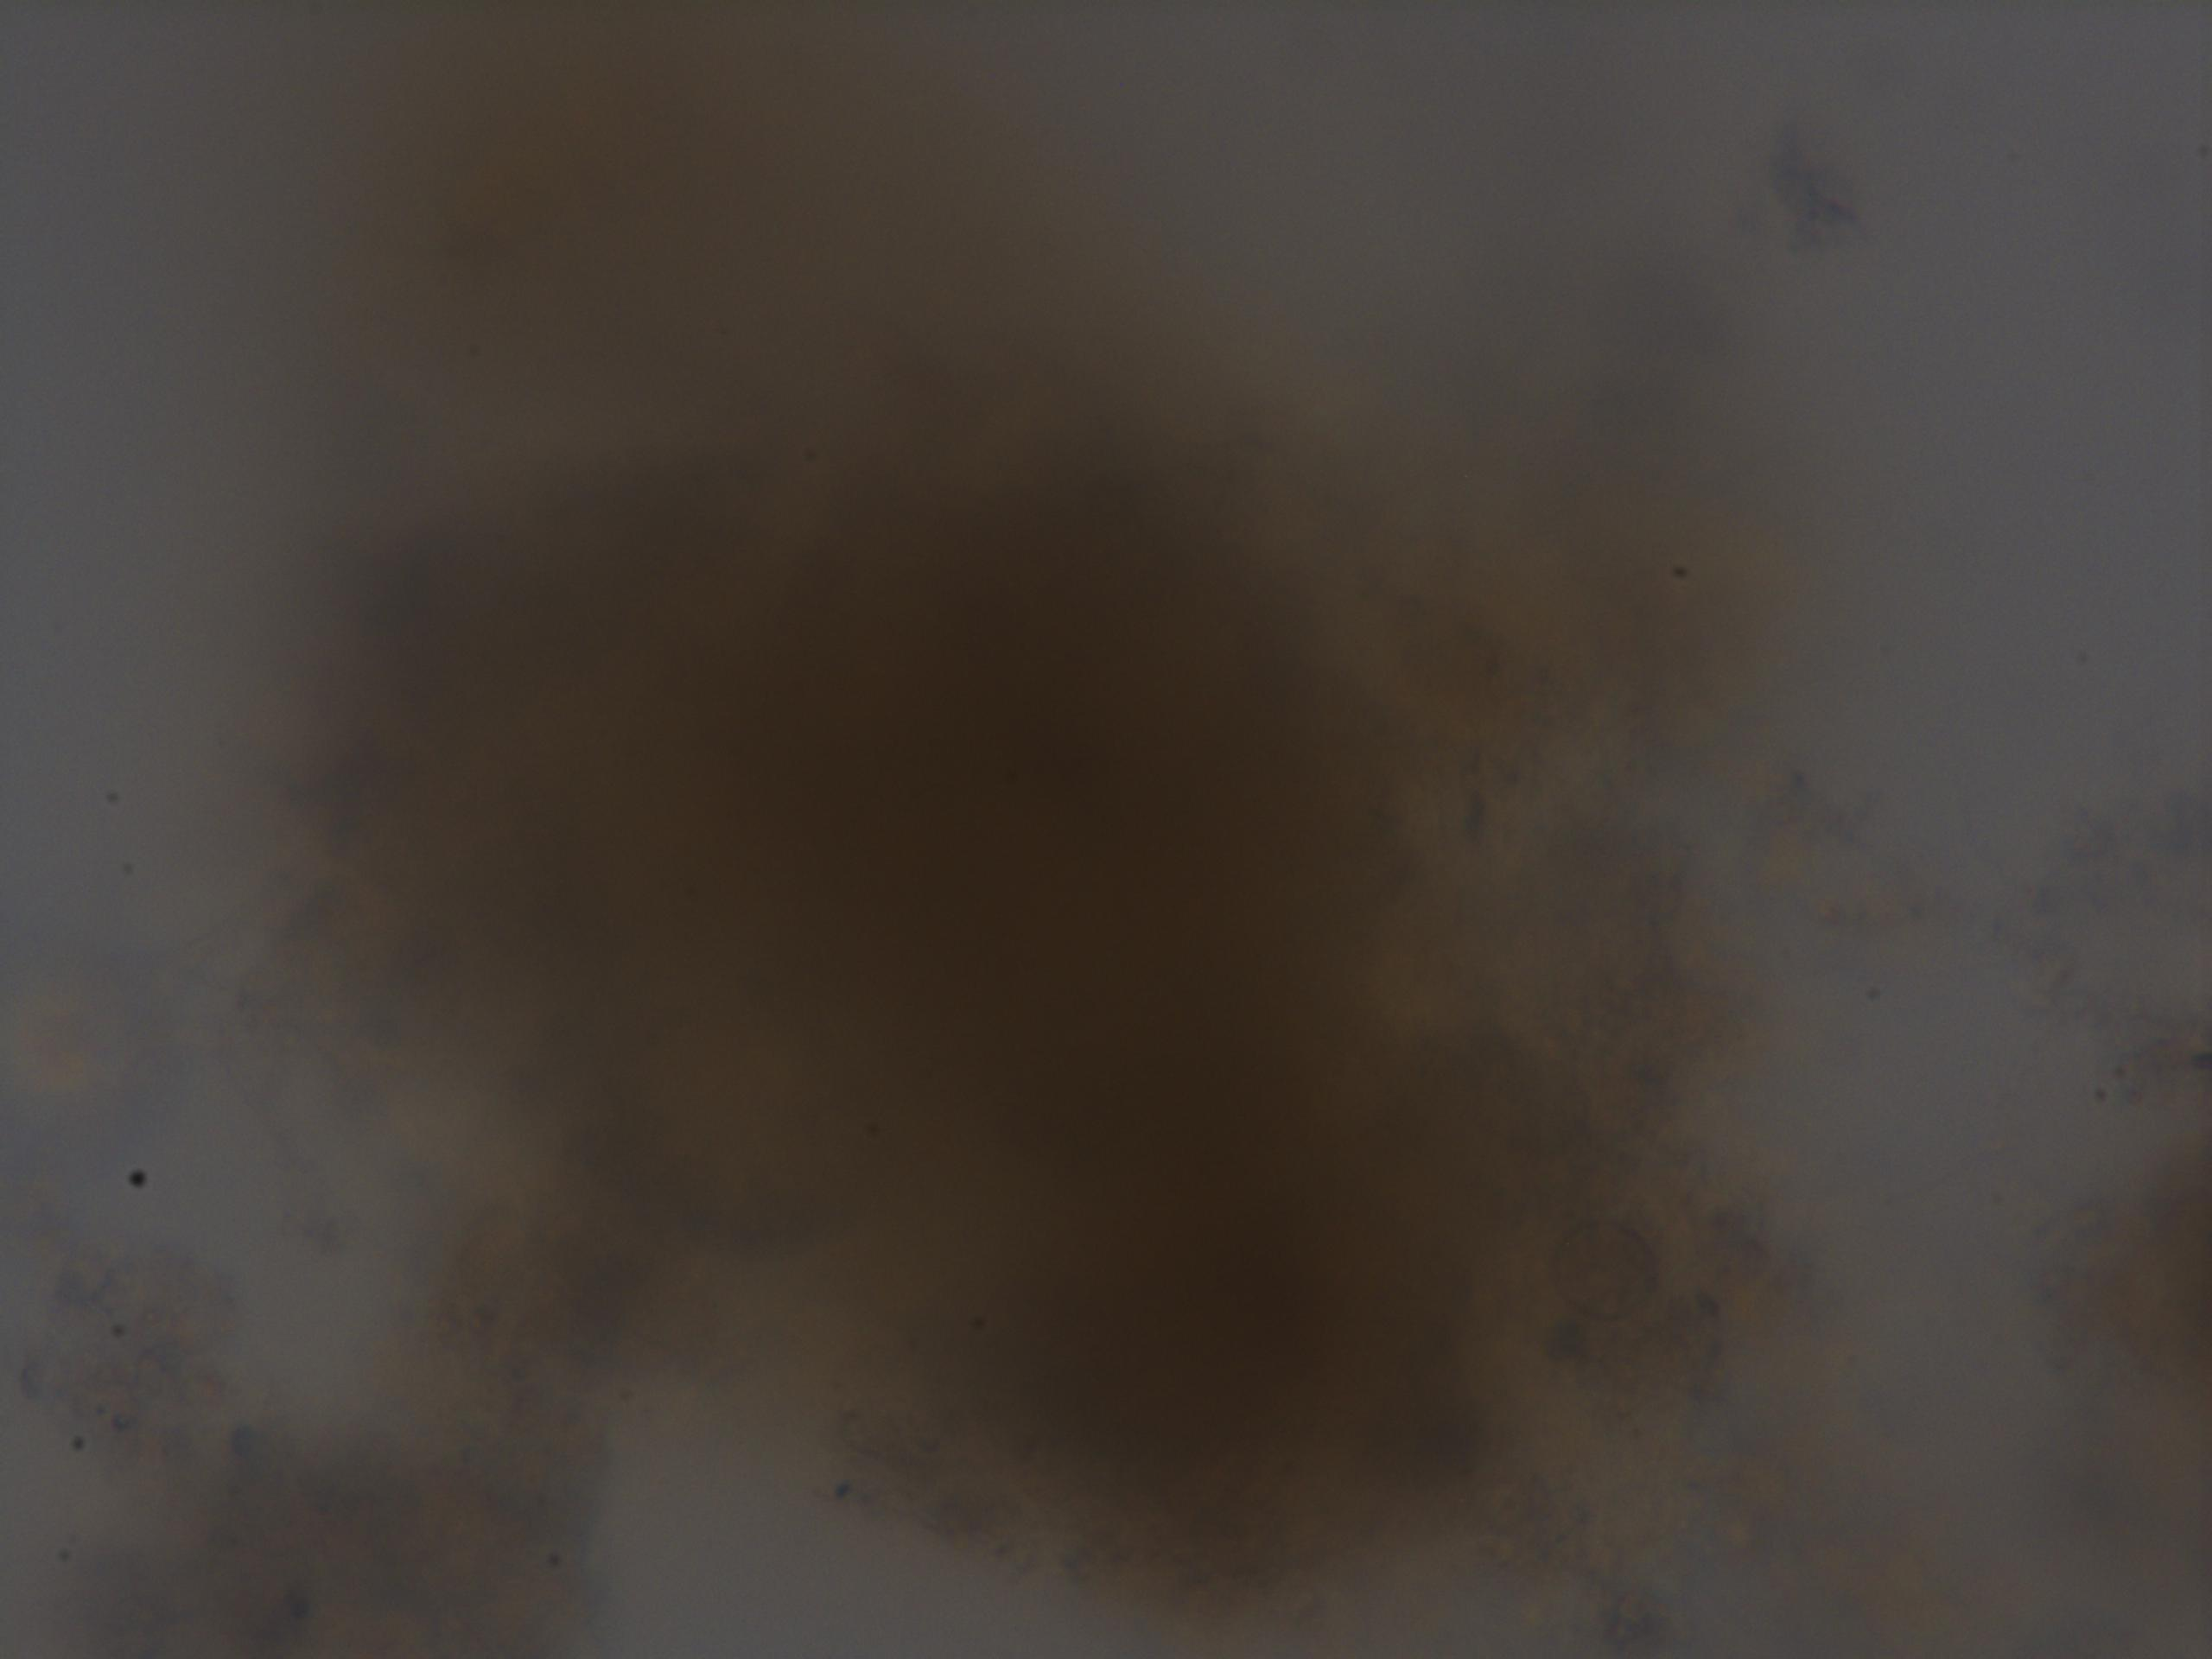spherical_floc: (265, 352, 1658, 1614)
